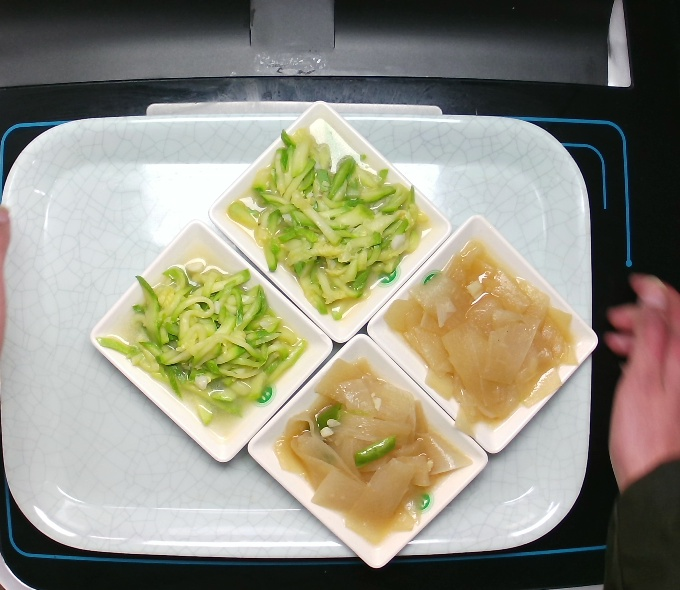wcq-LuoBo: (276, 357, 476, 556), (385, 239, 579, 438)
wcq-NenNanGua: (234, 118, 431, 318), (104, 256, 309, 421)
